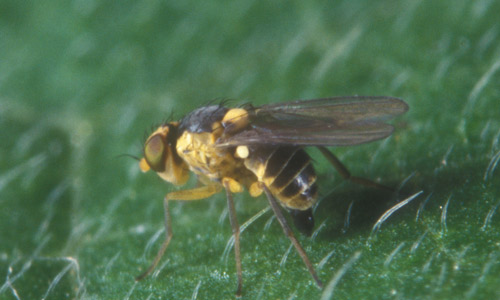Trifoli: (115, 82, 403, 264)
